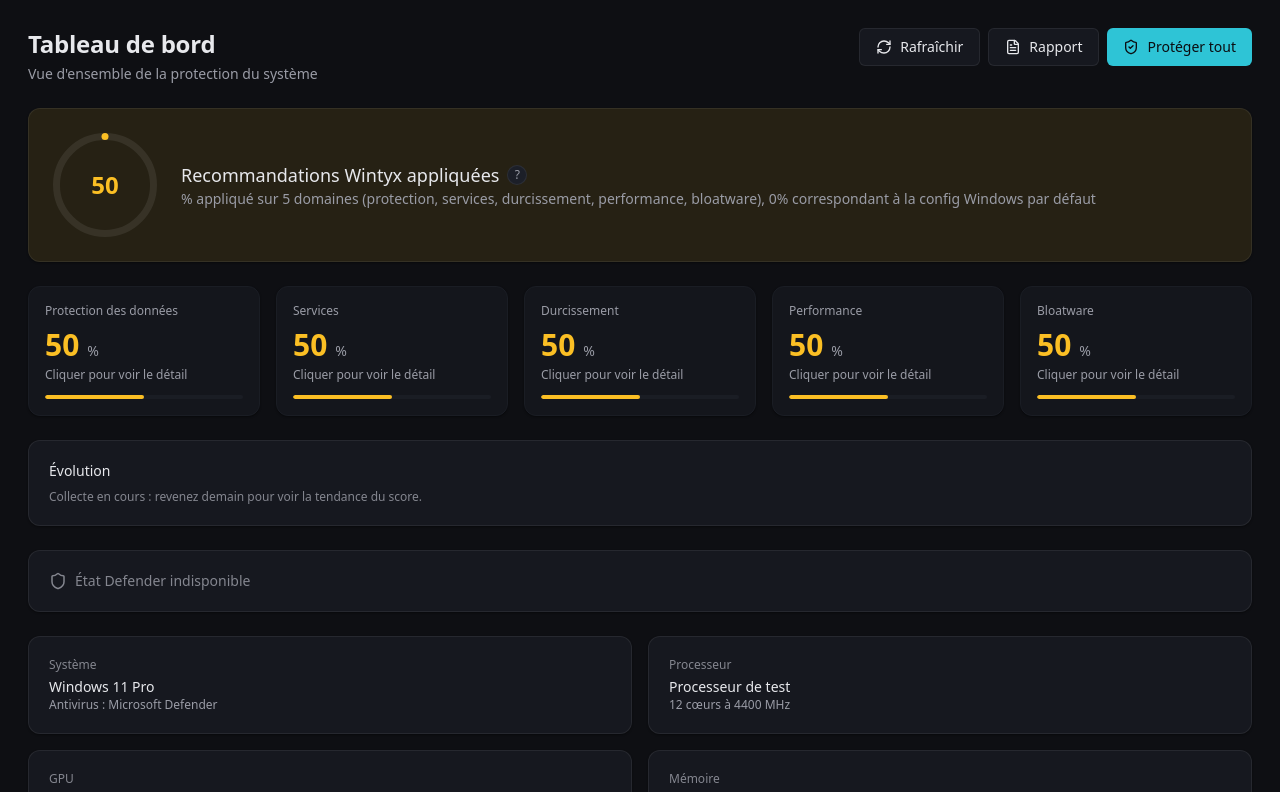
Test: DashboardPage protect all › takes a registry snapshot before applying protections and essential hardening
Click the button "Protéger tout" at (1180, 47), box [1107,28,1252,66]
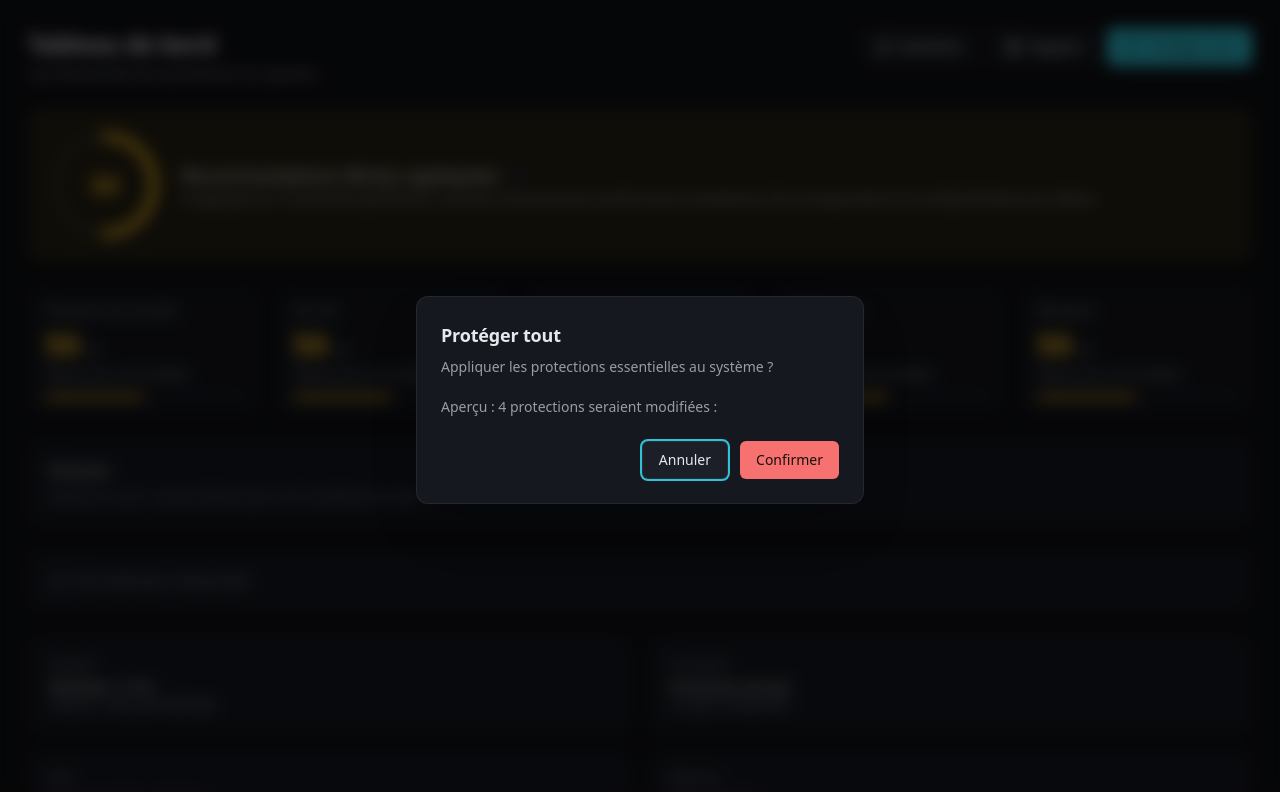
Click the button "Confirmer" at (790, 460), box [740,441,839,479]
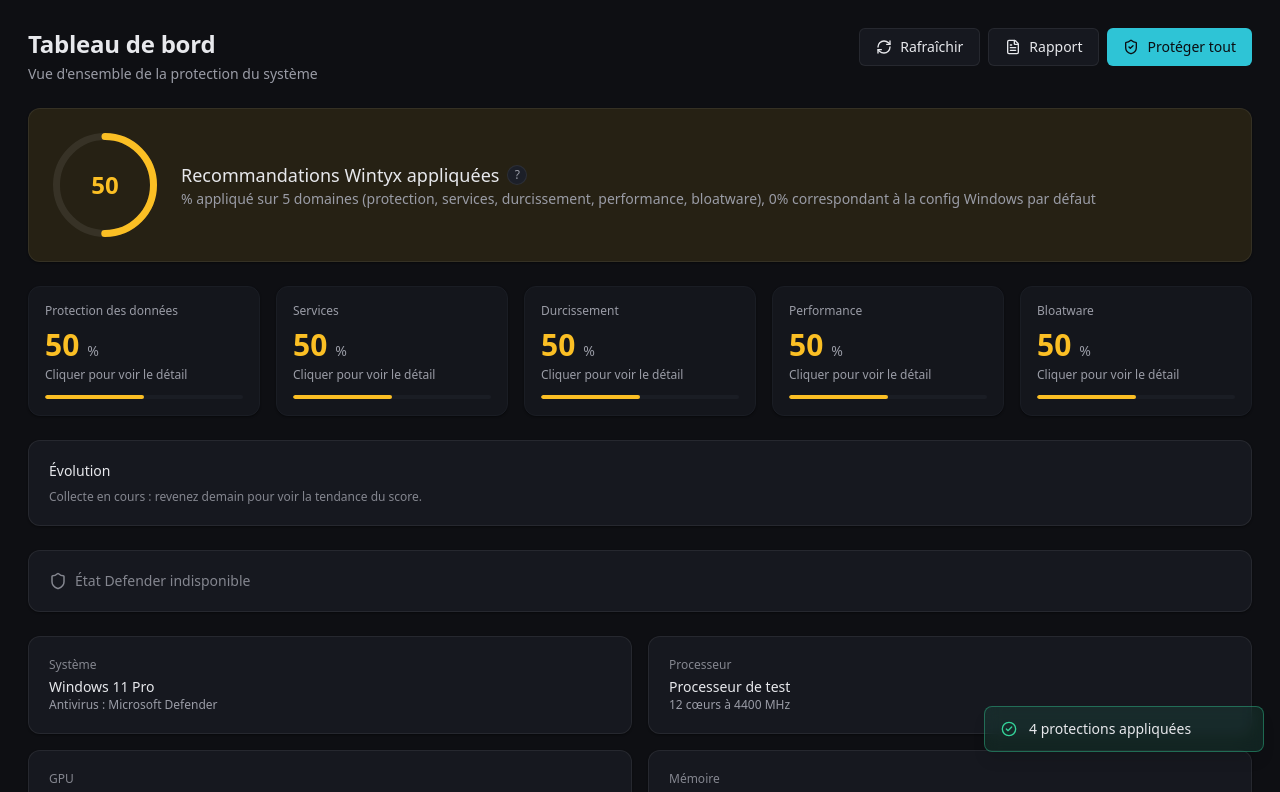
Now the text "4 protections appliquées" is shown, box [1029,719,1191,738]
